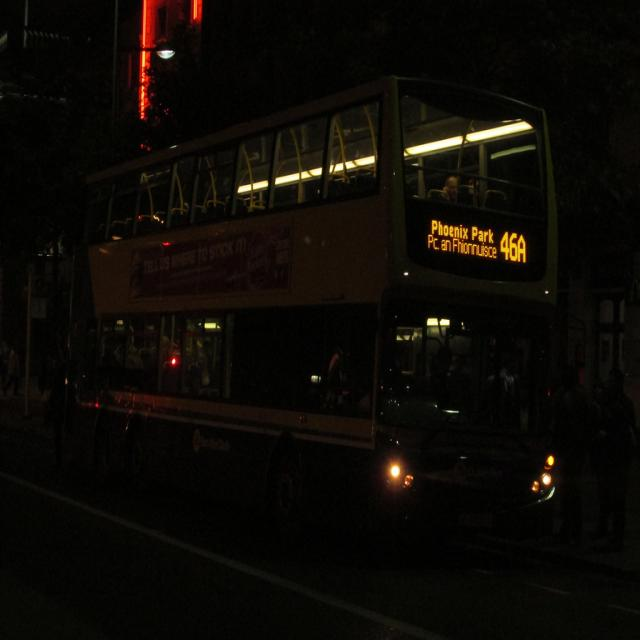Bus: (68, 96, 582, 552)
People: (598, 344, 640, 556), (34, 351, 92, 496), (552, 348, 604, 485), (497, 355, 536, 476), (318, 335, 363, 429)
